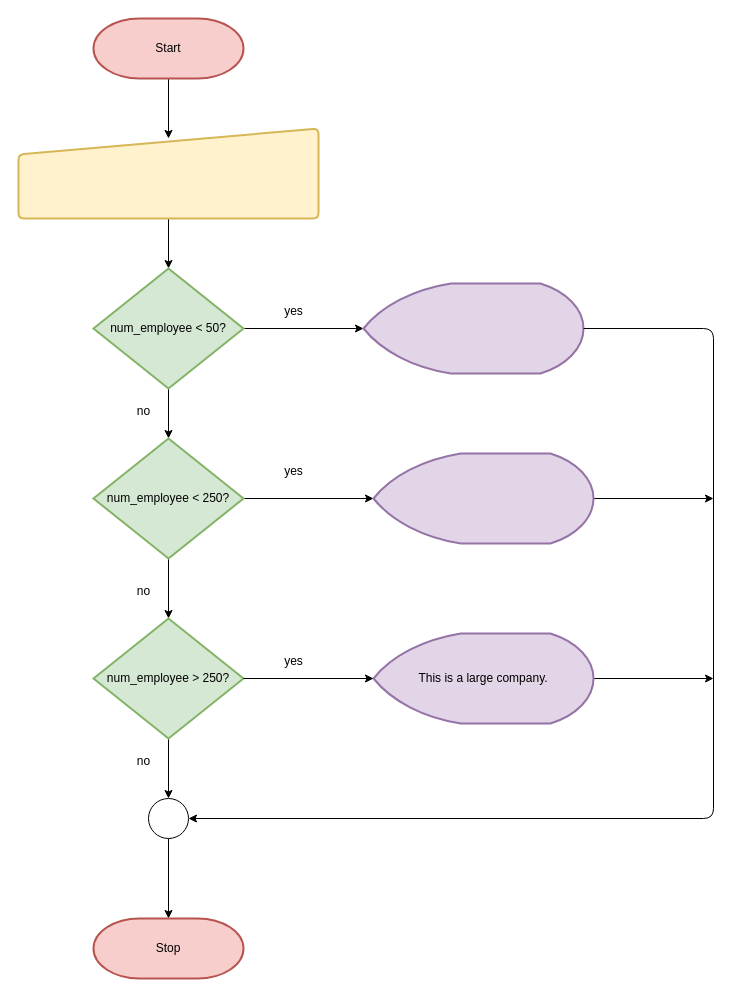
Image size: 739x996. Some labels were removed from this diagram. Here are the shapes that lost their labels. From the top down, the centre of each, then its label:
At (168,173): "Enter number of employeesnum_employees".
At (473,328): "This is a small company.".
At (483,498): "This is a medium-sized company.".
